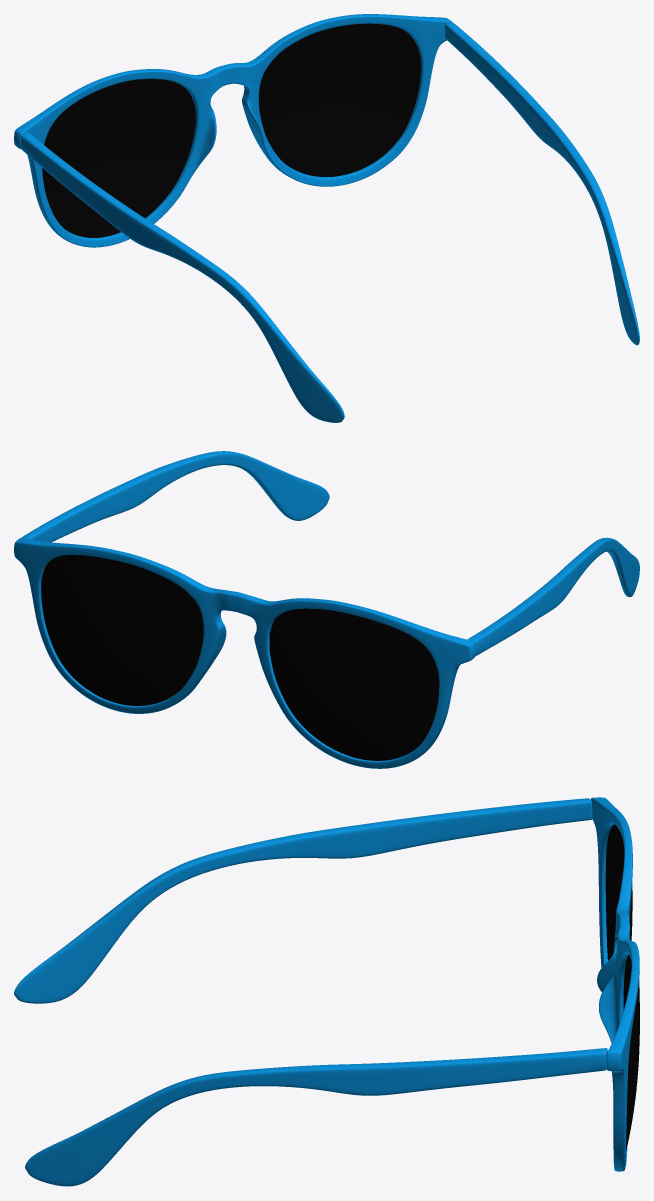
The picture shows the model from 3 angles, top to bottom: view 1: azimuth 30°, elevation 25°; view 2: azimuth 150°, elevation 25°; view 3: azimuth 270°, elevation 25°; orthographic projection. The views are drawn at different scales.
Visible parts, largest first — view 1: Glasses:Sphere002, Glasses:Sphere001, Glasses:Line001, Glasses:Line002, Glasses:Line003; view 2: Glasses:Sphere001, Glasses:Sphere002, Glasses:Line001, Glasses:Line003, Glasses:Line002; view 3: Glasses:Line002, Glasses:Line003, Glasses:Line001, Glasses:Sphere001, Glasses:Sphere002.
Boxes of the visible parts, left/top/right/bottom form: Glasses:Sphere002: left=258, top=23, right=420, bottom=176; Glasses:Sphere001: left=42, top=79, right=195, bottom=237; Glasses:Line001: left=14, top=14, right=452, bottom=247; Glasses:Line002: left=20, top=132, right=344, bottom=422; Glasses:Line003: left=445, top=23, right=639, bottom=345; Glasses:Sphere001: left=269, top=608, right=439, bottom=760; Glasses:Sphere002: left=41, top=554, right=203, bottom=705; Glasses:Line001: left=14, top=538, right=476, bottom=768; Glasses:Line003: left=21, top=451, right=329, bottom=542; Glasses:Line002: left=467, top=537, right=639, bottom=655; Glasses:Line002: left=14, top=798, right=592, bottom=1003; Glasses:Line003: left=25, top=1048, right=607, bottom=1186; Glasses:Line001: left=591, top=797, right=639, bottom=1171; Glasses:Sphere001: left=605, top=824, right=632, bottom=960; Glasses:Sphere002: left=623, top=954, right=639, bottom=1150.
Size of the model in its own units: 14.25 by 4.97 by 14.66.
